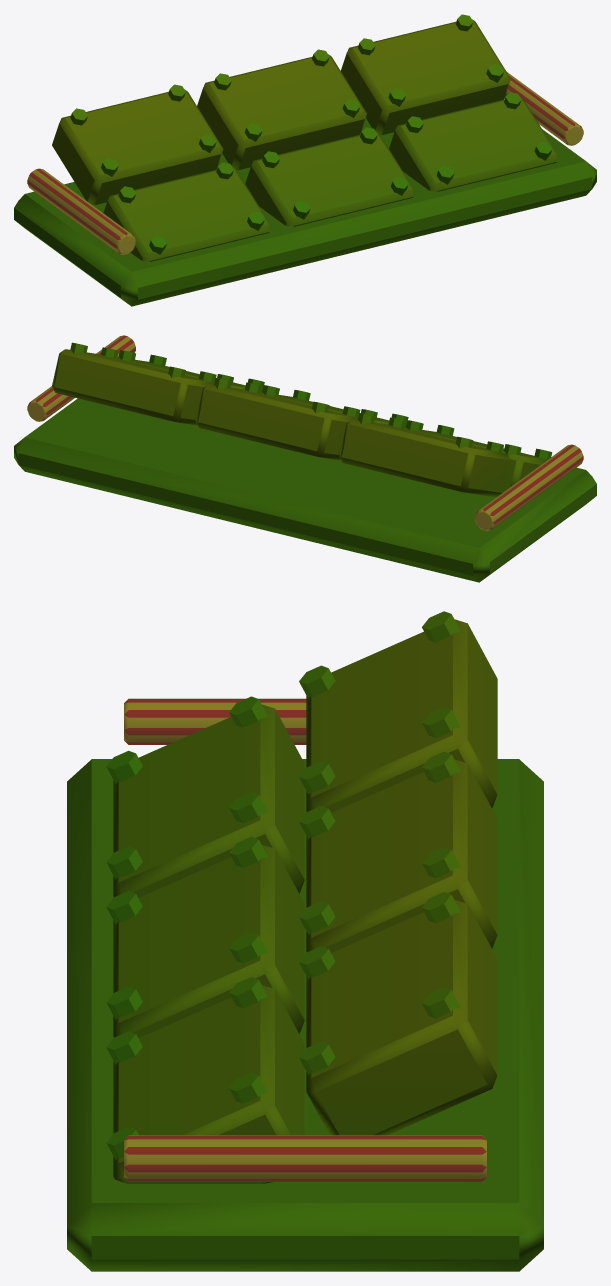
Rendered from RCLModule_assault_walker_plasma_cinder_ablative.fbx.
3 renders of one model, top to bottom at view 1: azimuth 30°, elevation 25°; view 2: azimuth 150°, elevation 25°; view 3: azimuth 270°, elevation 25°, orthographic. The views are drawn at different scales.
Parts seen in each view (by area): view 1: RCLModule_assault_walker_plasma_cinder_ablative_Batch_RCLMod (×3); view 2: RCLModule_assault_walker_plasma_cinder_ablative_Batch_RCLMod (×3); view 3: RCLModule_assault_walker_plasma_cinder_ablative_Batch_RCLMod (×3).
Boxes of the visible parts, x1=… form: RCLModule_assault_walker_plasma_cinder_ablative_Batch_RCLMod (×3): x1=14, y1=14, x2=596, y2=306; RCLModule_assault_walker_plasma_cinder_ablative_Batch_RCLMod (×3): x1=14, y1=335, x2=596, y2=582; RCLModule_assault_walker_plasma_cinder_ablative_Batch_RCLMod (×3): x1=67, y1=611, x2=543, y2=1271.
Bounding box in the file's own units: 79.5 × 19.78 × 34.5.
